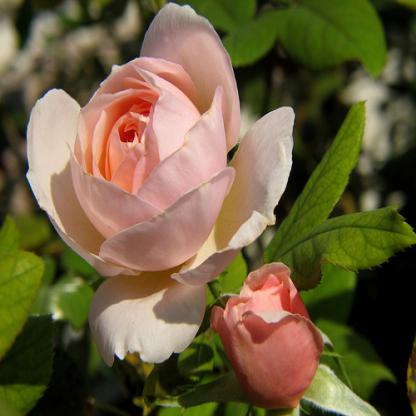ROSE-MAWAR: (11, 2, 323, 410)
